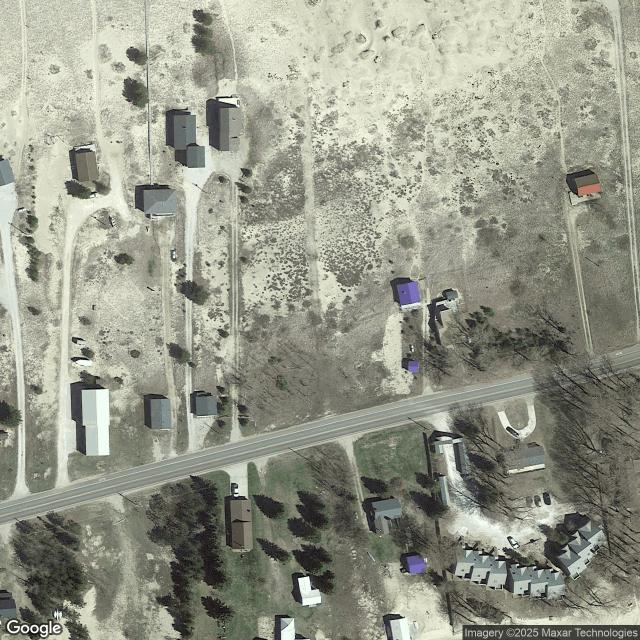Propane: (410, 344, 415, 354)
